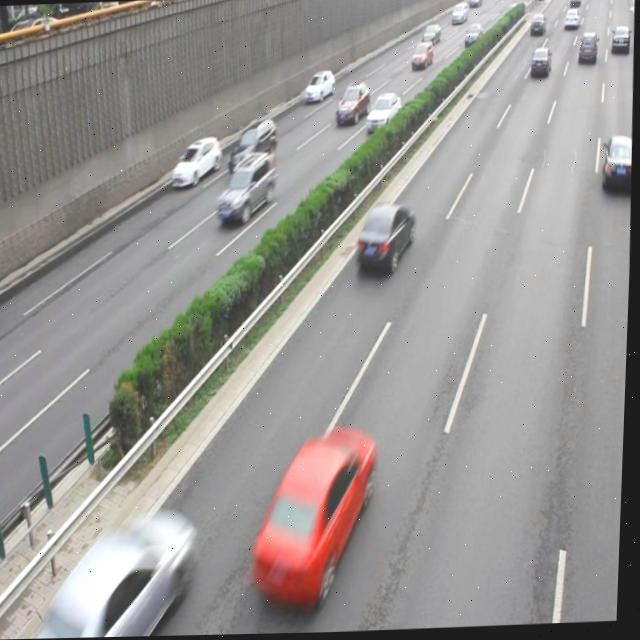car: (254, 429, 380, 597), (45, 512, 194, 639), (216, 150, 278, 225), (354, 204, 416, 274), (170, 135, 224, 189), (228, 118, 279, 175), (599, 134, 634, 196), (364, 92, 401, 136), (335, 83, 369, 125), (302, 70, 334, 105)
